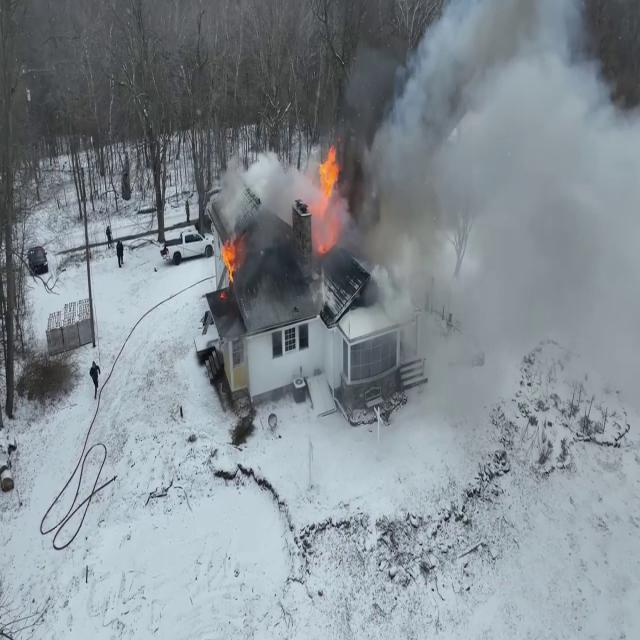Fire: (308, 138, 346, 250), (218, 230, 242, 286)
Smoke: (335, 0, 640, 466), (233, 137, 320, 300)
